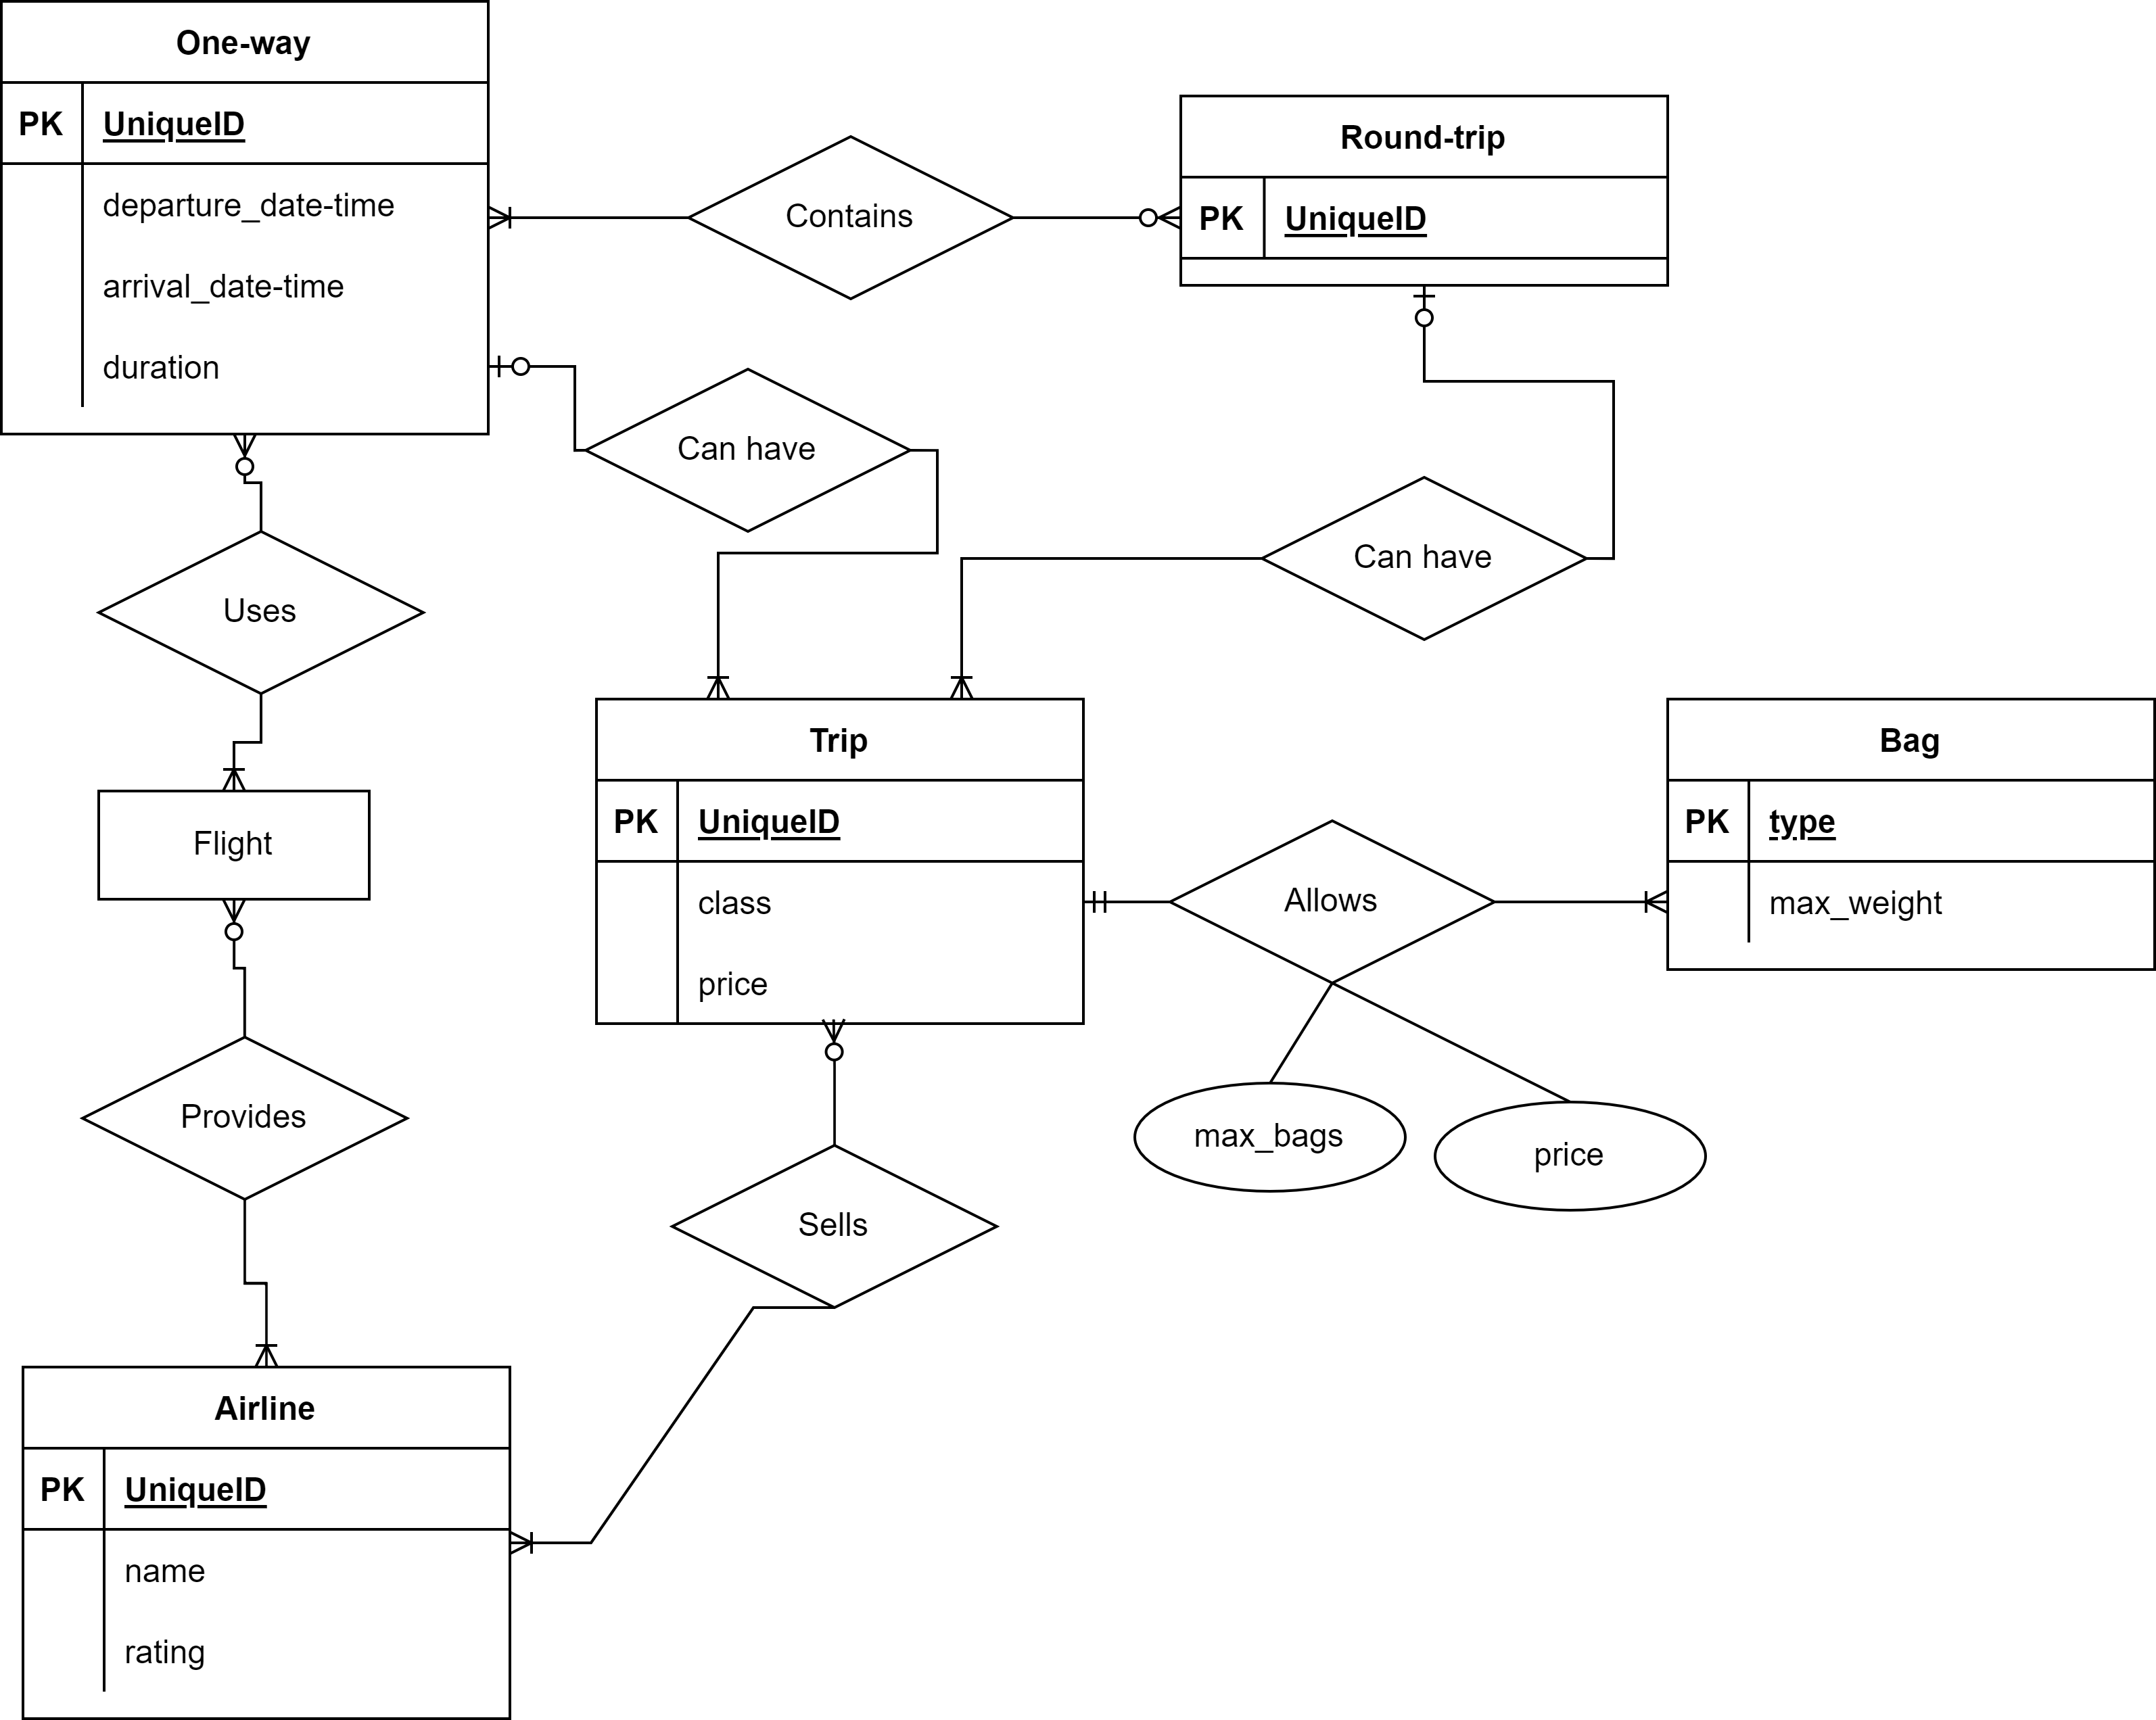entity: (5, 2, 483, 434), (23, 1364, 507, 1720), (599, 699, 1087, 1027), (1664, 699, 2156, 972), (1180, 95, 1668, 286), (97, 788, 367, 907)
many: (795, 1023, 881, 1081), (488, 179, 548, 258), (198, 737, 276, 793), (202, 897, 277, 951), (509, 1520, 597, 1566), (218, 434, 281, 493), (686, 651, 751, 702), (1122, 186, 1182, 239), (936, 653, 992, 704), (1613, 876, 1668, 927), (235, 1327, 300, 1369)
one: (1080, 860, 1152, 935), (1387, 288, 1464, 351), (488, 340, 560, 395)
rel: (95, 528, 430, 697), (1261, 476, 1594, 642), (690, 135, 1017, 304), (74, 1037, 414, 1197), (585, 363, 911, 528), (1173, 816, 1494, 976), (676, 1144, 997, 1304)
rel_attr: (1431, 1085, 1705, 1222), (1125, 1078, 1408, 1209)
